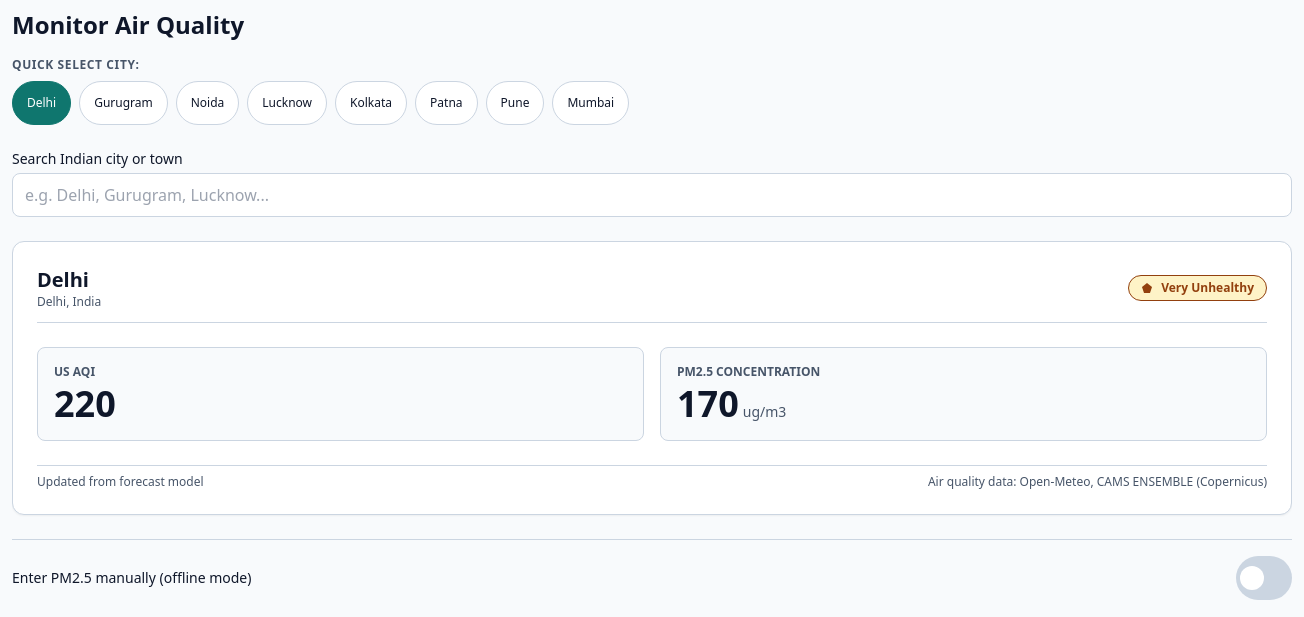
LocationPanel Component › fetches air quality when selecting a different preset chip
Click the button "Gurugram" at [123, 103], box top-left (79, 81), bottom-right (168, 125)
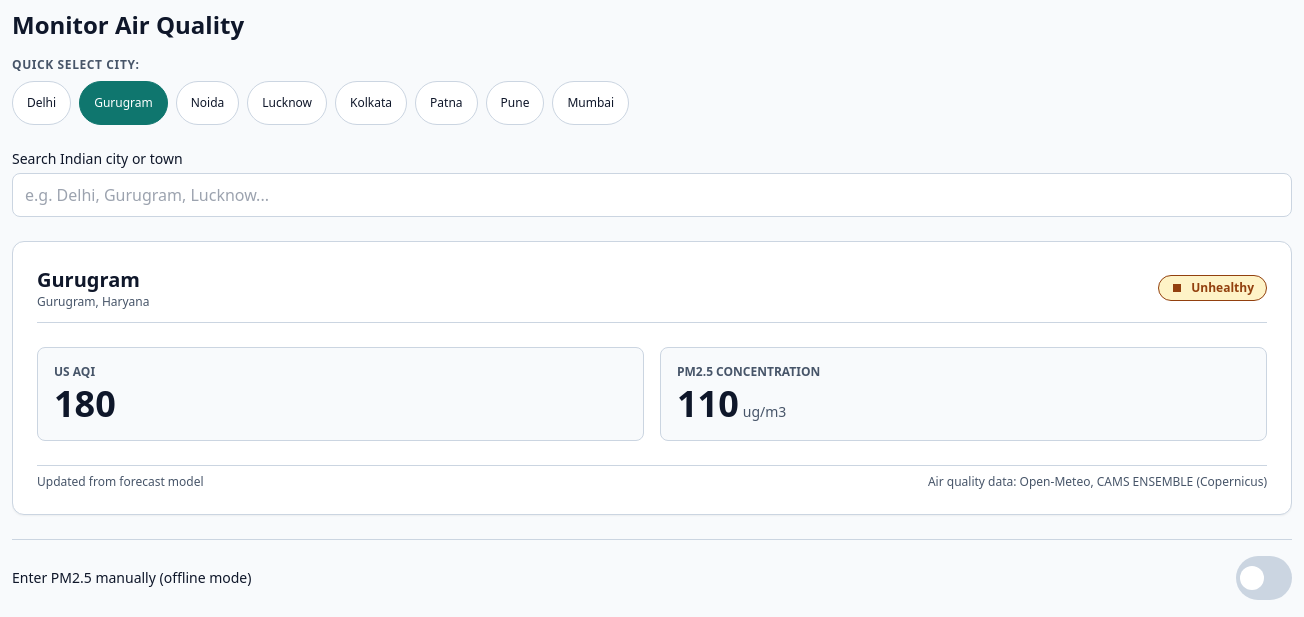
Check: the text "180" is shown, box top-left (54, 384), bottom-right (116, 424)
